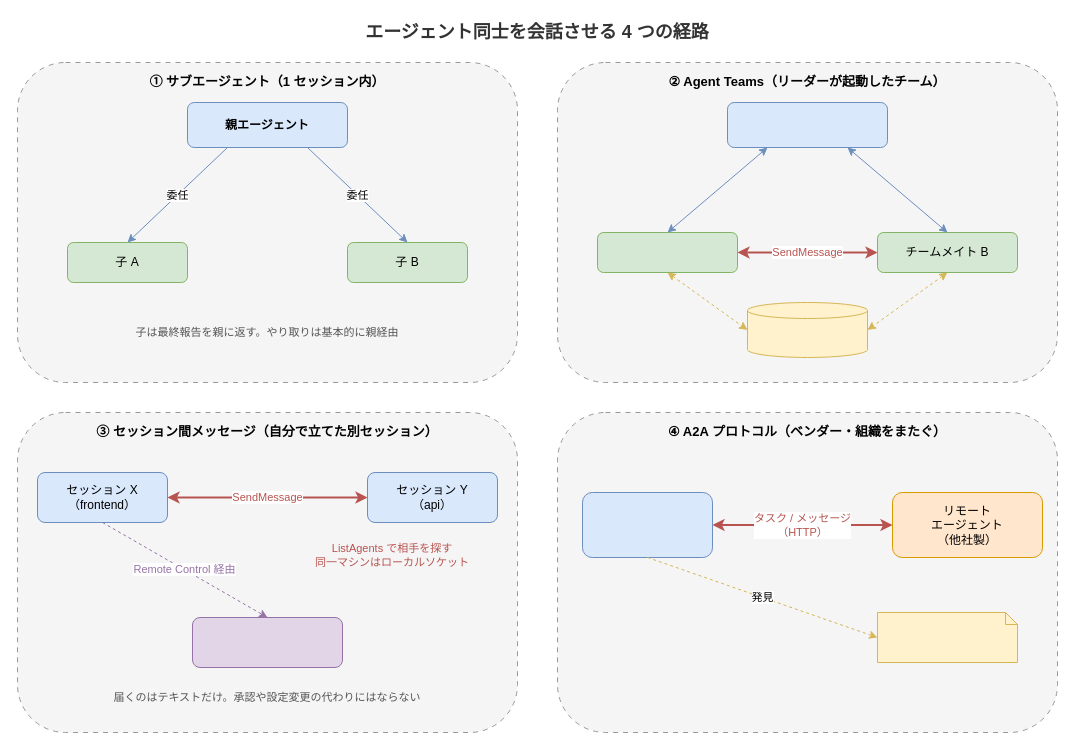
Image size: 1075x750. Some labels were removed from this diagram. Here are the shapes that lost their labels. From the top down, the centre of each, then its label:
At [807,125]: "リーダー".
At [667,252]: "チームメイト A".
At [807,330]: "共有タスクリスト".
At [647,525]: "クライアント エージェント （自社）".
At [267,642]: "別マシン / クラウドの セッション".
At [947,637]: "Agent Card （能力・エンドポイント）".
